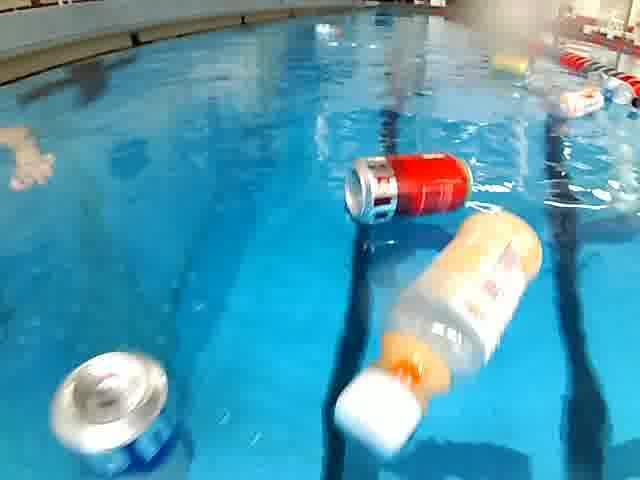Bottle: (328, 208, 550, 462)
Can: (48, 348, 198, 480), (345, 150, 475, 227)
